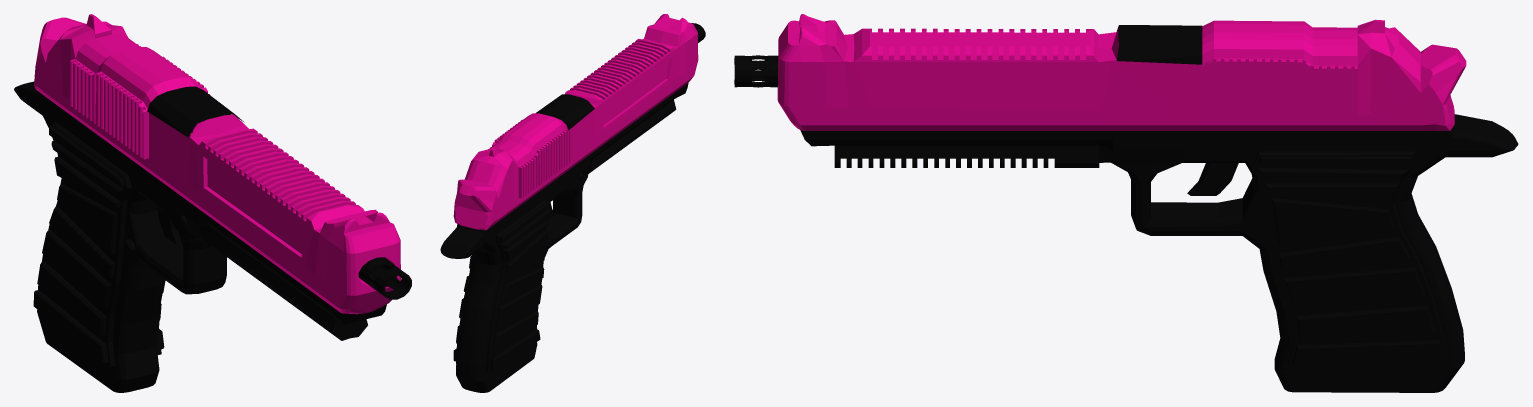
Rendered from deagle.glb.
3 views of the same model, side by side, from view 1: azimuth 30°, elevation 25°; view 2: azimuth 150°, elevation 25°; view 3: azimuth 270°, elevation 25° (orthographic). The views are drawn at different scales.
Parts seen in each view (by area): view 1: Base.weapon, Barrel, muzzle; view 2: Base.weapon, Barrel; view 3: Base.weapon, Barrel, muzzle.
Boxes of the visible parts, x1,y1,x2,y2 form: Base.weapon: [14, 81, 386, 392]; Barrel: [34, 14, 400, 314]; muzzle: [358, 257, 411, 299]; Base.weapon: [440, 82, 688, 392]; Barrel: [453, 14, 698, 230]; Base.weapon: [800, 25, 1518, 392]; Barrel: [777, 14, 1466, 130]; muzzle: [734, 55, 778, 87].
Bounding box in the file's own units: 0.3432 × 1.65 × 3.25.
